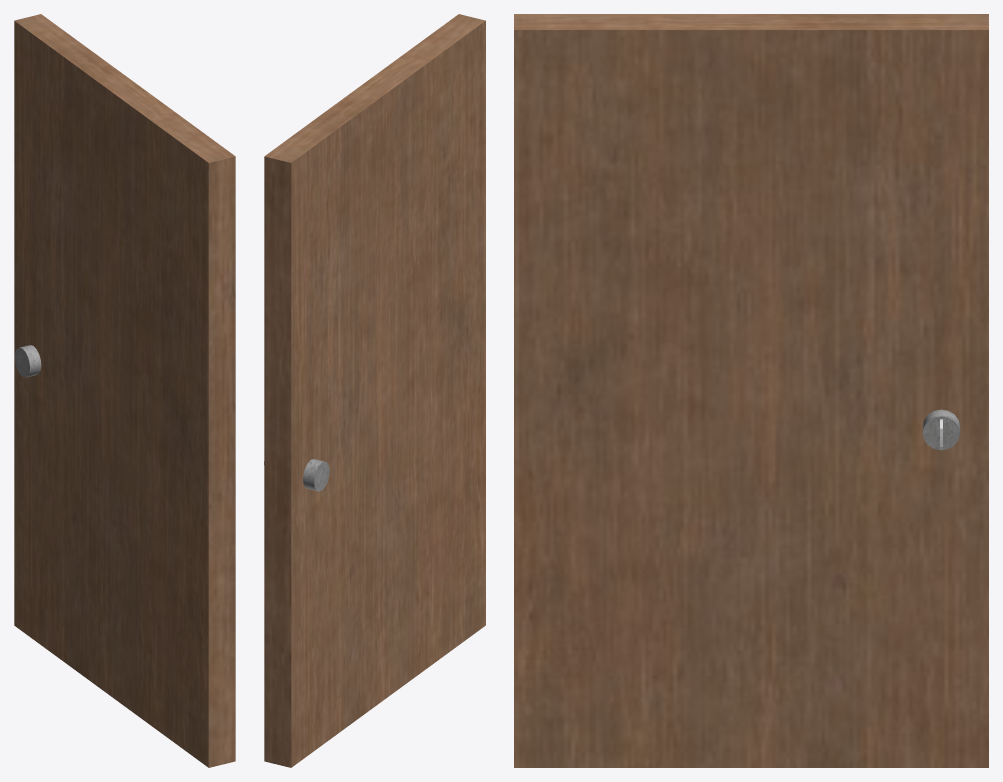
The model's file is Doorwithlock 1.fbx.
3 views of the same model, side by side, from view 1: azimuth 30°, elevation 25°; view 2: azimuth 150°, elevation 25°; view 3: azimuth 270°, elevation 25° (orthographic). The views are drawn at different scales.
Visible parts, largest first — view 1: Cube.012; view 2: Cube.012; view 3: Cube.012.
Part boxes in pixels (left/top/right/bottom): Cube.012: left=14, top=14, right=235, bottom=767; Cube.012: left=264, top=14, right=485, bottom=767; Cube.012: left=514, top=14, right=988, bottom=767.
Bounding box in the file's own units: 25.43 × 257 × 150.
